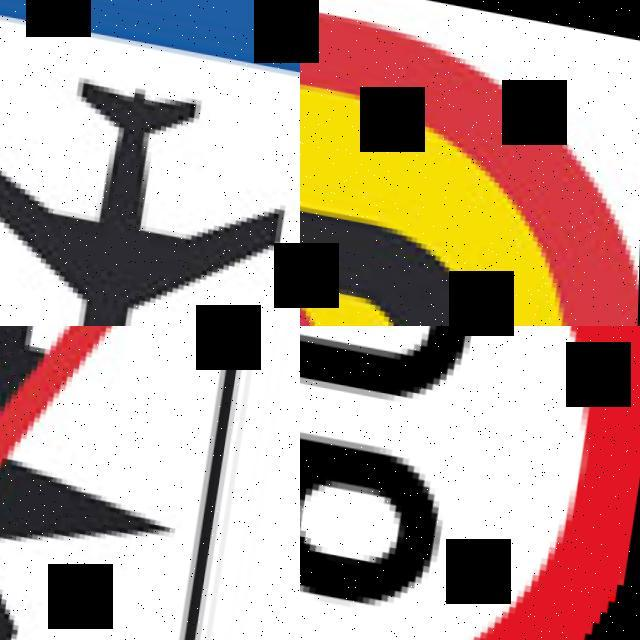128: (0, 326, 300, 640)
23: (0, 0, 300, 326)
no u turn: (300, 0, 640, 326)
speed limit-90: (300, 326, 640, 640)
